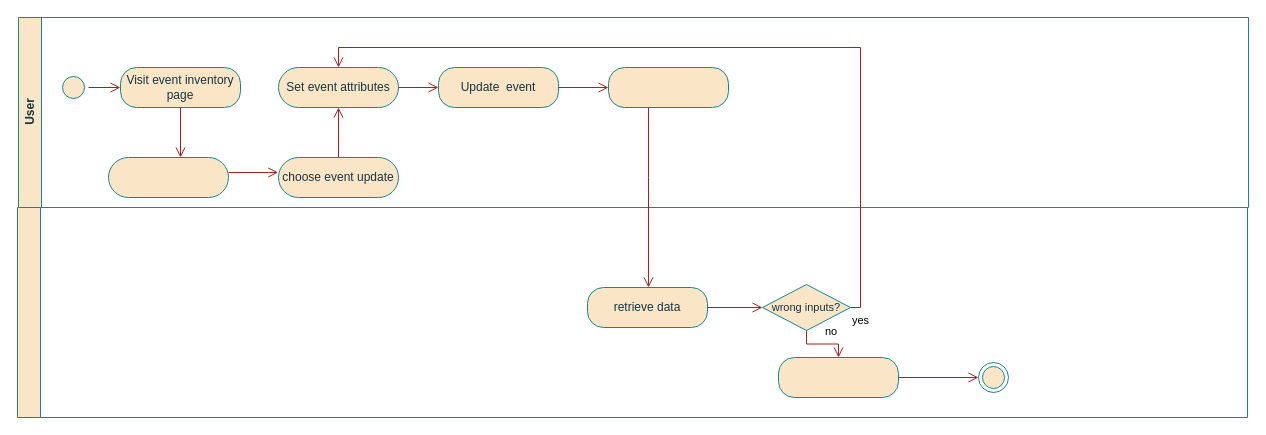
Some shapes in this 1266 by 435 pixel diagram are drawn without their labels. The shapes that lost their labels are listed below. From the top down, each one's box as (x1, y1, x2, y2) in pixels, then its label:
(608, 66, 728, 108): press confirm creation
(108, 156, 228, 198): Select an event
(16, 206, 1248, 418): System
(778, 356, 898, 398): Show success message
